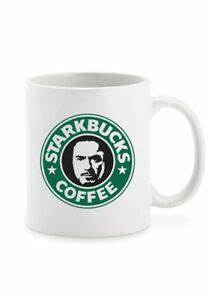starbucks Fake: (37, 110, 141, 212)
